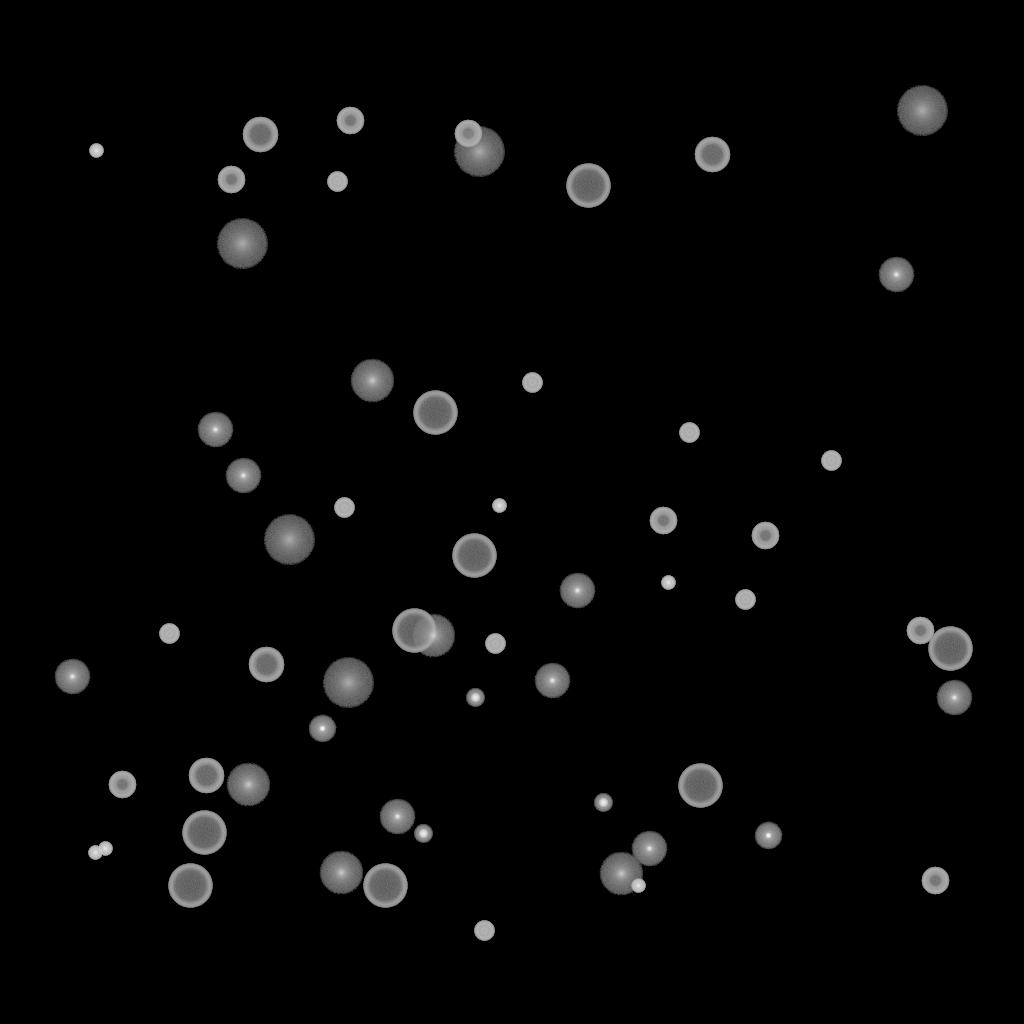depth:-10: (308, 715, 336, 743), (754, 822, 782, 850)
depth:-20: (466, 689, 484, 707), (414, 825, 432, 843), (594, 794, 612, 812)
depth:-30: (661, 576, 675, 590), (89, 144, 103, 158), (492, 499, 506, 513), (631, 879, 645, 893), (88, 846, 102, 860), (98, 842, 112, 856)
depth:-40: (485, 634, 505, 654), (522, 373, 542, 393), (679, 423, 699, 443), (159, 624, 179, 644), (735, 590, 755, 610), (327, 172, 347, 192), (474, 921, 494, 941), (334, 498, 354, 518), (821, 451, 841, 471)
depth:-50: (751, 522, 779, 550), (217, 166, 245, 194), (921, 867, 949, 895), (906, 617, 934, 645), (108, 771, 136, 799), (649, 507, 677, 535), (336, 107, 364, 135), (454, 120, 482, 148)
depth:-60: (188, 758, 224, 794), (694, 137, 730, 173), (248, 647, 284, 683), (242, 117, 278, 153)
depth:-70: (392, 609, 436, 653), (168, 864, 212, 908), (928, 627, 972, 671), (363, 864, 407, 908), (452, 534, 496, 578), (566, 164, 610, 208), (413, 391, 457, 435), (678, 764, 722, 808), (182, 811, 226, 855)
depth:0: (379, 799, 415, 835), (54, 659, 90, 695), (878, 257, 914, 293), (197, 412, 233, 448), (225, 458, 261, 494), (936, 680, 972, 716), (559, 573, 595, 609), (631, 831, 667, 867), (534, 663, 570, 699)
depth:10: (226, 763, 270, 807), (350, 359, 394, 403), (599, 852, 643, 896), (319, 851, 363, 895), (411, 614, 455, 658)
depth:20: (322, 658, 374, 708), (216, 219, 268, 269), (453, 127, 505, 177), (896, 86, 948, 136), (263, 515, 315, 565)
